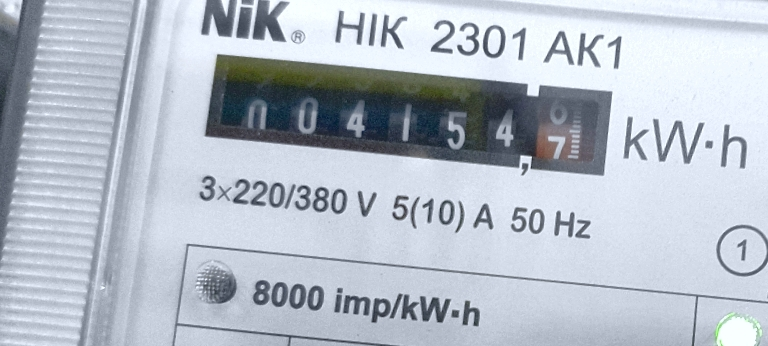0: (293, 92, 320, 136), (244, 93, 270, 129)
1: (397, 100, 415, 143)
4: (342, 96, 369, 139), (492, 103, 517, 149)
5: (442, 104, 470, 151)
6: (546, 94, 571, 126)
7: (543, 130, 566, 161)
screen: (187, 32, 631, 193)
